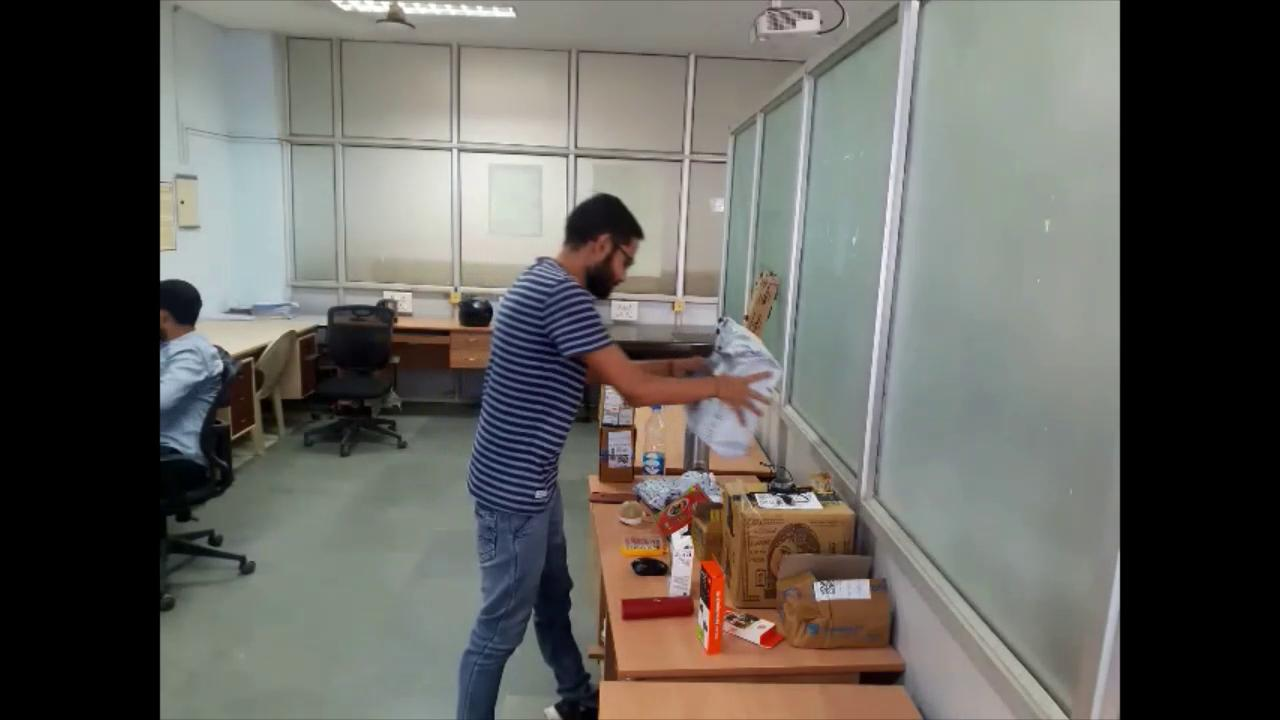Normal: (464, 166, 785, 720)
